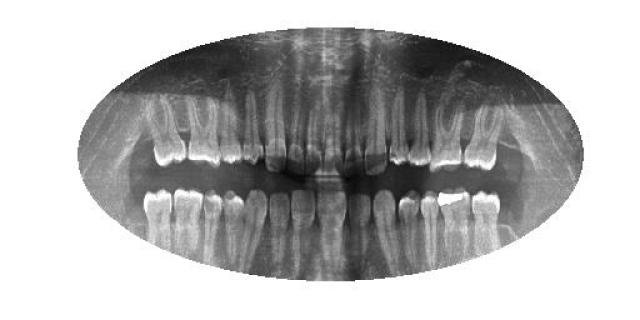Fillings: (438, 188, 472, 264)
